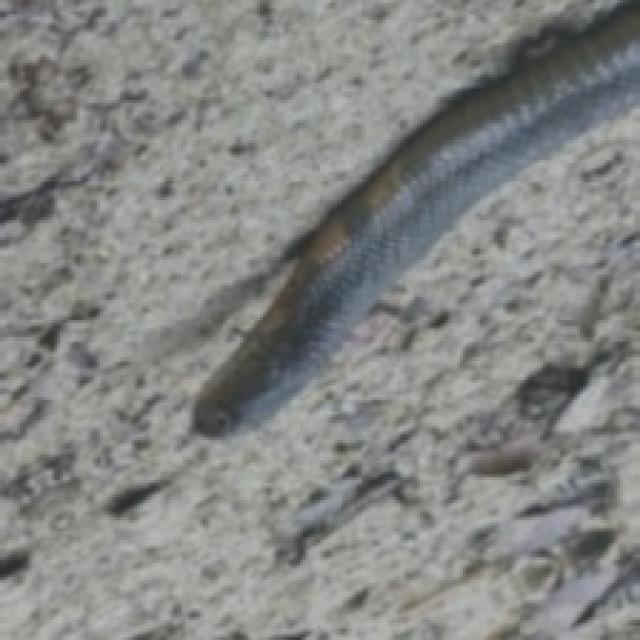king cobra: (194, 0, 637, 434)
